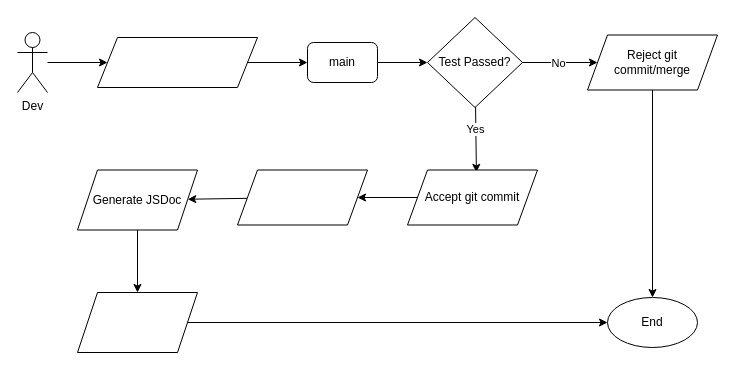
Some shapes in this 735 by 370 pixel diagram are drawn without their labels. Here are the shapes that lost their labels. From the top down, the centre of each, then its label:
At point (177, 62): "Git push/merge or pull request".
At point (302, 197): "Run linter".
At point (137, 322): "Deploy JSDoc".
